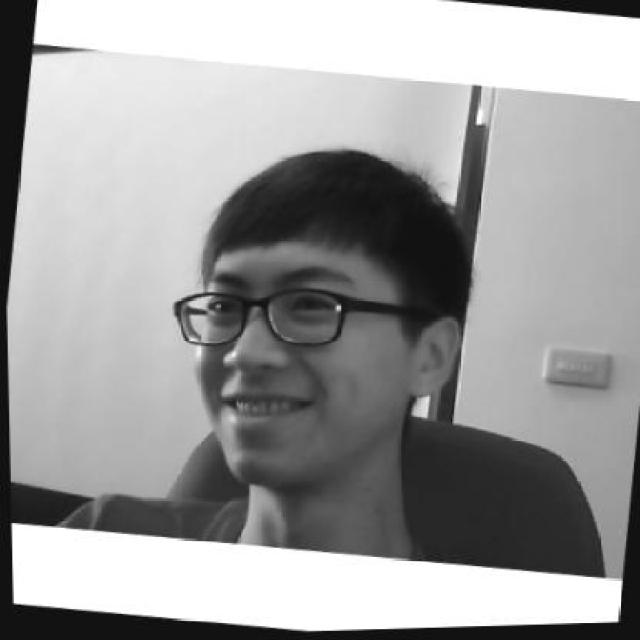attentif: (147, 126, 481, 509)
